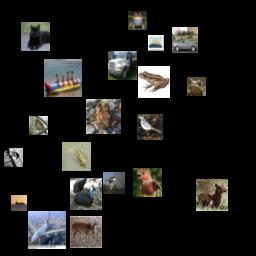airplane: (28, 211, 66, 249)
automobile: (172, 27, 198, 53)
bird: (70, 178, 102, 210), (133, 168, 162, 197), (137, 114, 163, 140), (103, 172, 125, 194), (29, 116, 48, 135)
cat: (21, 22, 50, 51), (4, 148, 23, 167)
deer: (196, 179, 228, 211), (70, 216, 102, 248)
frog: (86, 99, 121, 134), (138, 66, 170, 98), (62, 142, 91, 171), (128, 11, 147, 30), (187, 77, 206, 96)
ship: (44, 59, 82, 97), (11, 195, 27, 211), (148, 35, 164, 51)
truck: (108, 51, 137, 80)
